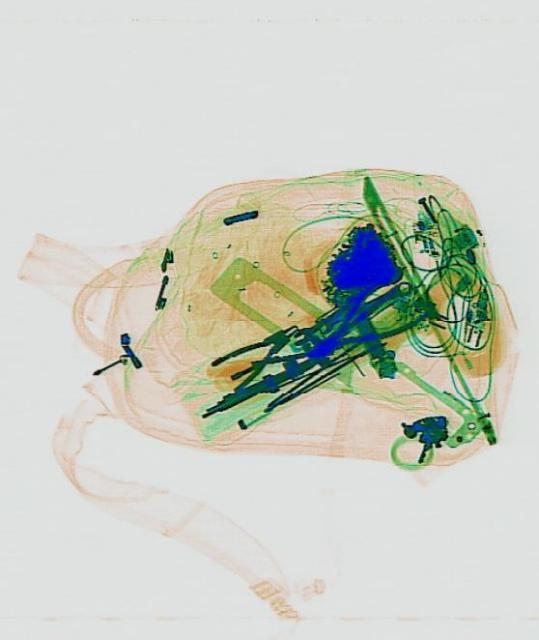Pliers: (298, 274, 426, 374), (208, 309, 305, 397)
Wrench: (314, 278, 412, 334), (288, 297, 364, 345)
